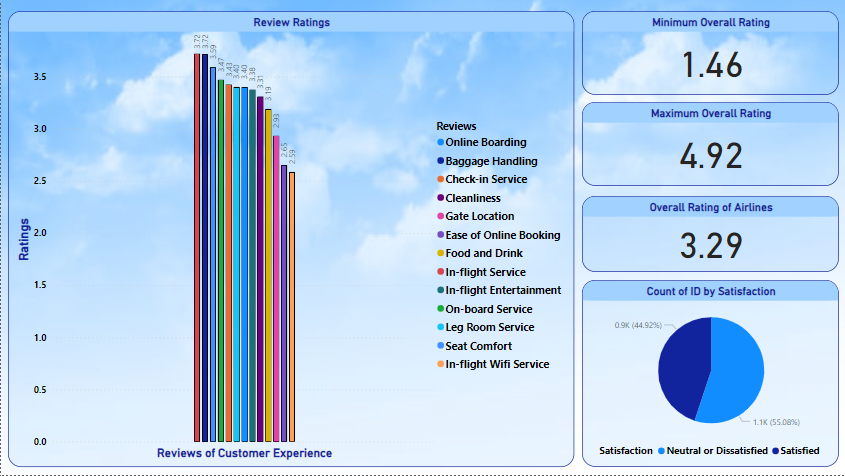

What the dashboard file says about the page in this screenshot:
{"tool":"powerbi","page":{"name":"Page 2","canvas":[1280,720],"ordinal":1},"visuals":[{"type":"clusteredColumnChart","title":"Review Ratings","fields":{"Y":["Avg(Airlines.Online Boarding)","Avg(Airlines.Baggage Handling)","Avg(Airlines.Check-in Service)","Avg(Airlines.Cleanliness)","Avg(Airlines.Gate Location)","Avg(Airlines.Ease of Online Booking)","Avg(Airlines.Food and Drink)","Avg(Airlines.In-flight Service)","Avg(Airlines.In-flight Entertainment)","Avg(Airlines.On-board Service)","Avg(Airlines.Leg Room Service)","Avg(Airlines.Seat Comfort)"]},"box":[10.6,16.6,857.9,690.5],"z":0},{"type":"pieChart","fields":{"Y":["CountNonNull(Airlines.ID)"],"Category":["Airlines.Satisfaction"]},"box":[880.3,424.2,389.4,283.3],"z":1000},{"type":"card","title":"Minimum Overall Rating","fields":{"Values":["Min(Airlines.Row_Average_Ratings)"]},"box":[880.3,16.7,389.4,127.3],"z":2000},{"type":"card","title":"Maximum Overall Rating","fields":{"Values":["Max(Airlines.Row_Average_Ratings)"]},"box":[880.3,154.5,389.4,127.3],"z":3000},{"type":"card","title":"Overall Rating of Airlines","fields":{"Values":["Avg(Airlines.Row_Average_Ratings)"]},"box":[880.3,297,389.4,115.2],"z":4000}]}

Visuals, with their boxes in screenshot pixels (x1, y1, x2, y2), scaled from the page's 1280x720 canvas onto the 845x476 screenshot:
"Review Ratings" clusteredColumnChart: x1=7 y1=11 x2=573 y2=467
pieChart - CountNonNull(Airlines.ID) x Airlines.Satisfaction: x1=581 y1=280 x2=838 y2=468
"Minimum Overall Rating" card: x1=581 y1=11 x2=838 y2=95
"Maximum Overall Rating" card: x1=581 y1=102 x2=838 y2=186
"Overall Rating of Airlines" card: x1=581 y1=196 x2=838 y2=273
